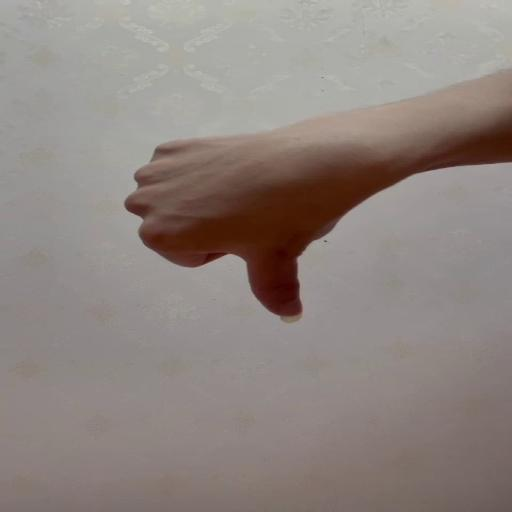thumbs_down: (121, 131, 375, 324)
